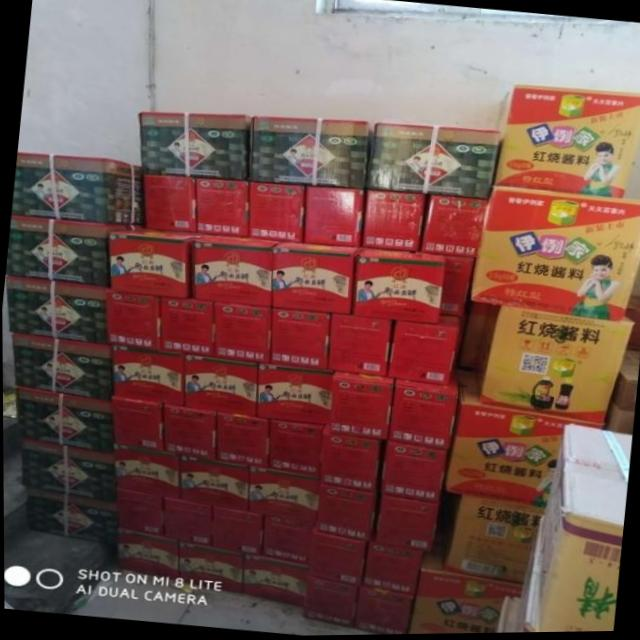box: (470, 187, 640, 324), (520, 425, 630, 634), (472, 304, 634, 425), (443, 395, 603, 509), (492, 86, 640, 200), (4, 215, 144, 288), (368, 124, 499, 201), (11, 151, 145, 226), (406, 554, 523, 635), (250, 116, 373, 189), (444, 495, 543, 585), (140, 111, 251, 181), (6, 276, 111, 344), (352, 248, 445, 324), (11, 332, 112, 399), (19, 436, 116, 504), (15, 386, 114, 452), (109, 230, 202, 299), (191, 235, 278, 308), (272, 243, 356, 316), (25, 486, 118, 546), (387, 316, 458, 387), (387, 379, 457, 451), (255, 363, 334, 425), (183, 353, 257, 416), (112, 345, 184, 407), (329, 371, 393, 440), (420, 196, 487, 259), (177, 453, 248, 512), (380, 441, 445, 504), (326, 314, 392, 376), (247, 466, 319, 522), (319, 425, 379, 492), (360, 190, 423, 252), (269, 308, 329, 369), (303, 187, 363, 247), (313, 484, 375, 542), (176, 541, 243, 594), (374, 496, 437, 552), (113, 444, 178, 498), (240, 554, 306, 607), (213, 303, 270, 364), (248, 181, 304, 243), (306, 531, 365, 587), (360, 543, 421, 597), (268, 419, 324, 477), (158, 297, 213, 356), (117, 528, 177, 580), (196, 178, 248, 237), (106, 290, 158, 349), (143, 175, 196, 232), (215, 412, 268, 469), (162, 403, 214, 461), (301, 576, 357, 628), (352, 588, 412, 636), (260, 514, 314, 565), (111, 395, 161, 450), (209, 506, 261, 556), (162, 496, 211, 546), (116, 488, 162, 536), (440, 257, 473, 318)
